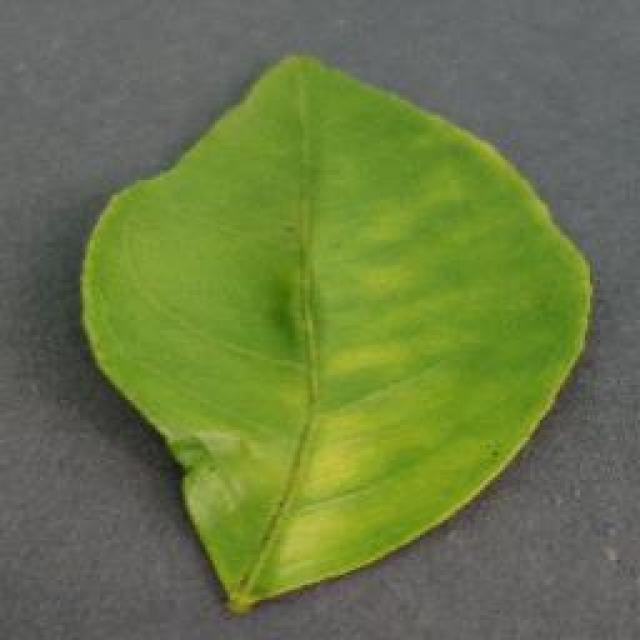Orange_Haunglongbing_Citrus_greening: (130, 115, 569, 517)
